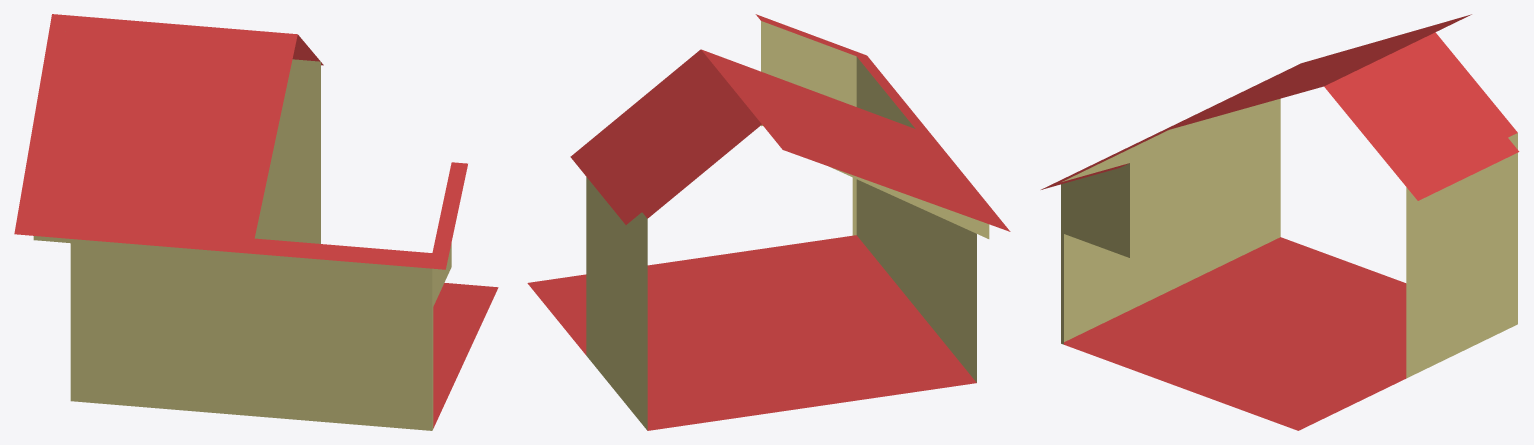
3 renders of one model, left to right at view 1: azimuth 30°, elevation 25°; view 2: azimuth 150°, elevation 25°; view 3: azimuth 270°, elevation 25°, orthographic. The views are drawn at different scales.
Bounding box in the file's own units: 24.7 × 23.43 × 14.1.
